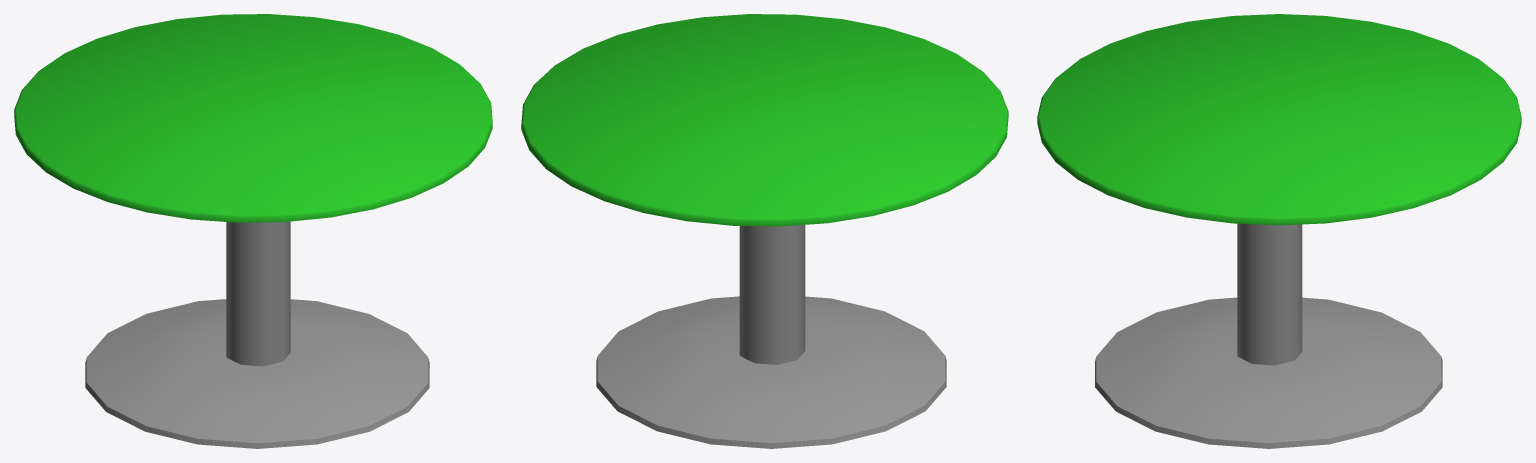
File: Table_OutDoor.FBX
3 renders of one model, left to right at view 1: azimuth 30°, elevation 25°; view 2: azimuth 150°, elevation 25°; view 3: azimuth 270°, elevation 25°, orthographic.
Visible parts, largest first — view 1: Object001; view 2: Object001; view 3: Object001.
Boxes of the visible parts, box(x1,y1,x2,y2) form: Object001: box(14, 14, 492, 448); Object001: box(521, 14, 1008, 448); Object001: box(1037, 14, 1521, 448).
Bounding box in the file's own units: 118 × 69.75 × 118.
